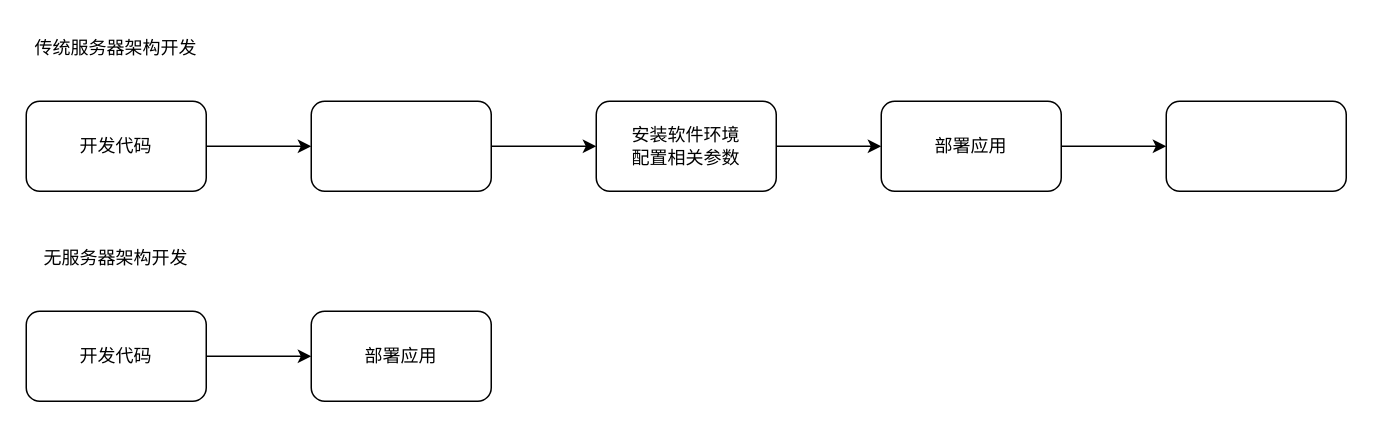
Image size: 1373x428. Some labels were removed from this diagram. The shapes that lost their labels are listed below. From the top down, each one's centre as x and y in pixels, then its label:
(x=400, y=145): 购买服务器资源
(x=1255, y=145): 运维管理
